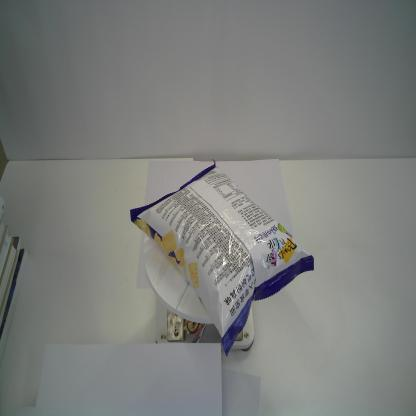Puffed Food: (129, 159, 315, 356)
